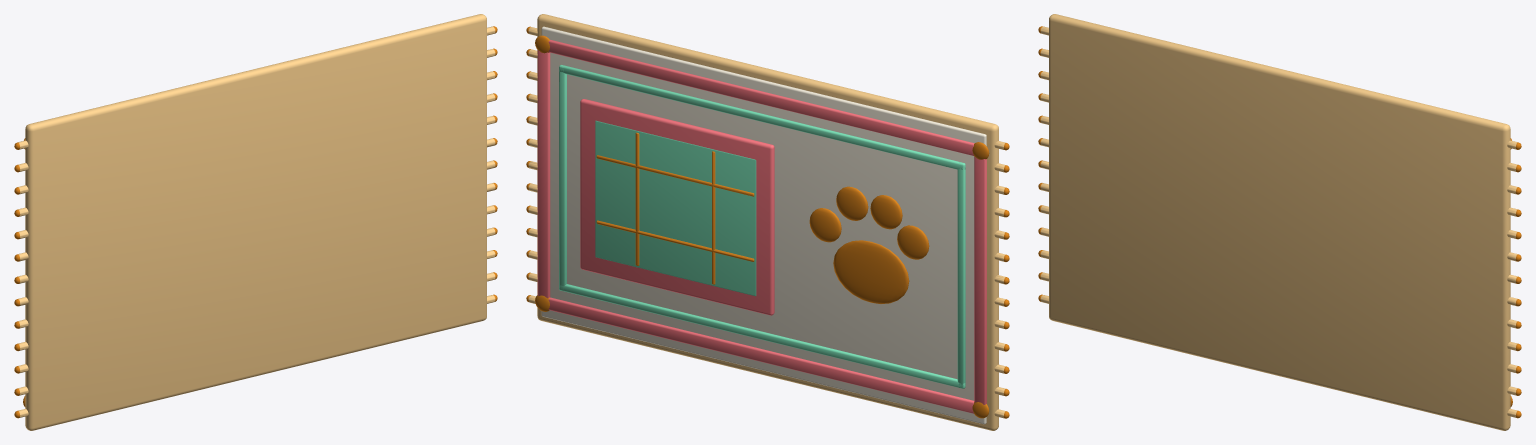
File: BathroomBathMat_Premium.fbx
The picture shows the model from 3 angles, left to right: view 1: azimuth 30°, elevation 25°; view 2: azimuth 150°, elevation 25°; view 3: azimuth 330°, elevation 25°; orthographic projection.
Parts seen in each view (by area): view 1: BathroomBathMat; view 2: BathroomBathMat; view 3: BathroomBathMat.
Boxes of the visible parts, left/top/right/bottom form: BathroomBathMat: left=14, top=14, right=497, bottom=430; BathroomBathMat: left=526, top=14, right=1009, bottom=430; BathroomBathMat: left=1038, top=14, right=1521, bottom=430.
Size of the model in its own units: 1.9 by 1.15 by 0.0854.
